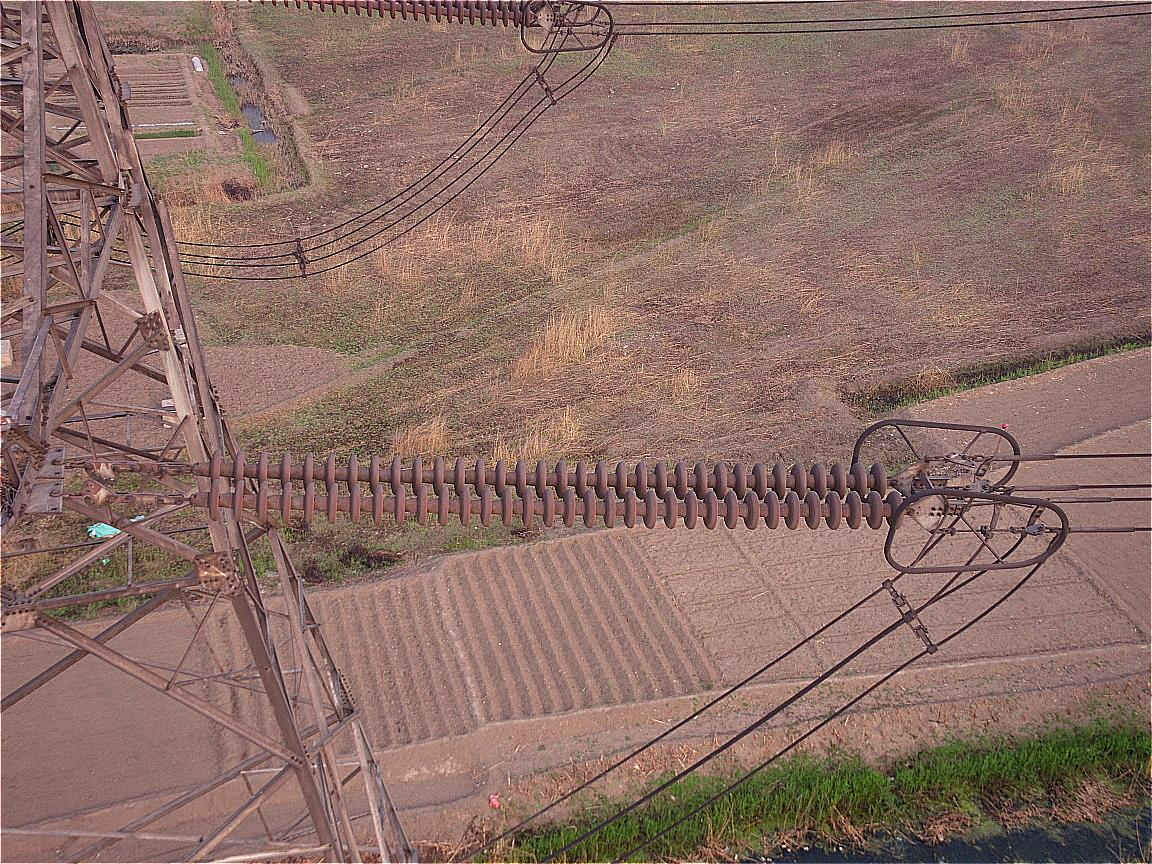insultor1: (210, 449, 907, 528)
